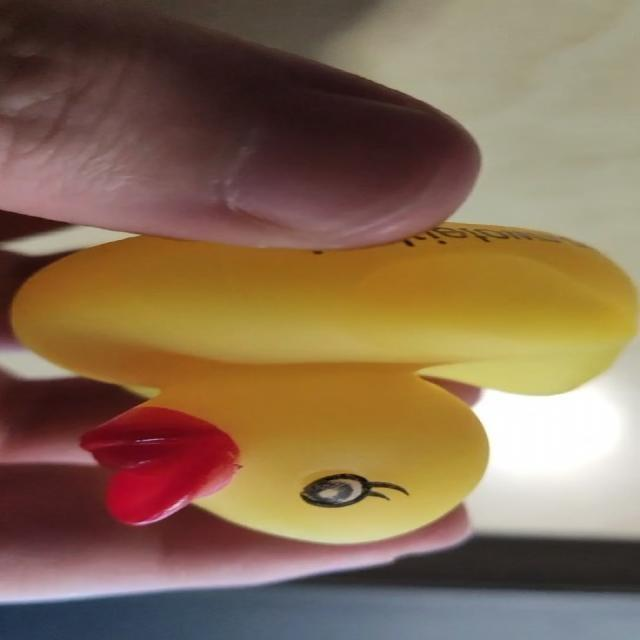rubber-duck: (11, 222, 636, 392), (179, 389, 413, 540), (419, 430, 485, 522)
